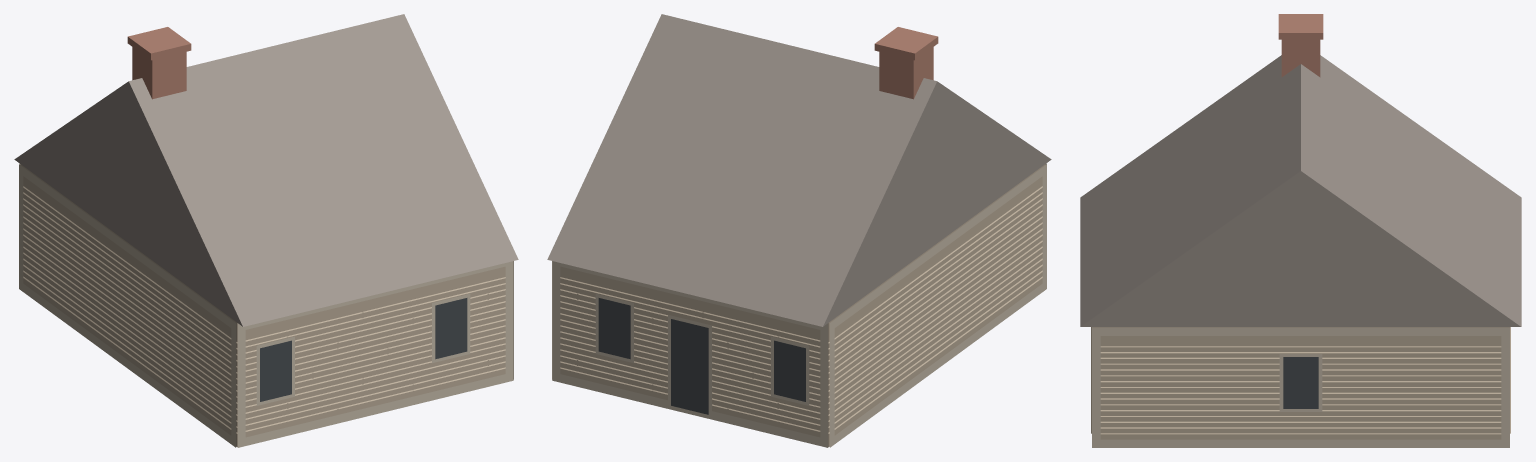
The model's file is heacock_house_monroe__documented_1835.glb.
3 renders of one model, left to right at view 1: azimuth 30°, elevation 25°; view 2: azimuth 150°, elevation 25°; view 3: azimuth 270°, elevation 25°, orthographic. The views are drawn at different scales.
Parts seen in each view (by area): view 1: heacock_house_monroe__documented_1835; view 2: heacock_house_monroe__documented_1835; view 3: heacock_house_monroe__documented_1835.
Boxes of the visible parts, bbox=[...] form: heacock_house_monroe__documented_1835: bbox=[14, 14, 518, 447]; heacock_house_monroe__documented_1835: bbox=[547, 14, 1051, 447]; heacock_house_monroe__documented_1835: bbox=[1080, 14, 1521, 447].
Size of the model in its own units: 6.79 by 7.45 by 9.64.
